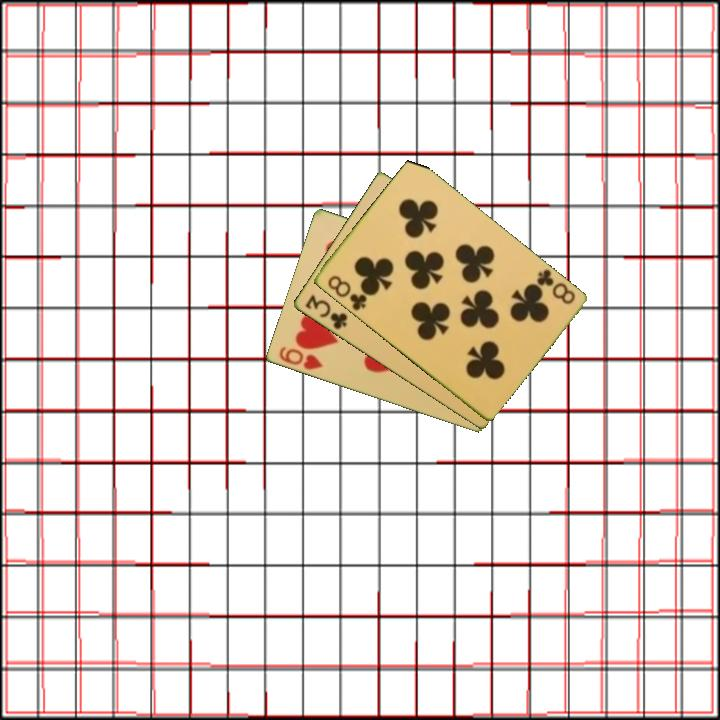3c: (301, 291, 350, 333)
6h: (275, 343, 325, 373)
8c: (532, 265, 578, 307), (324, 272, 369, 314)
